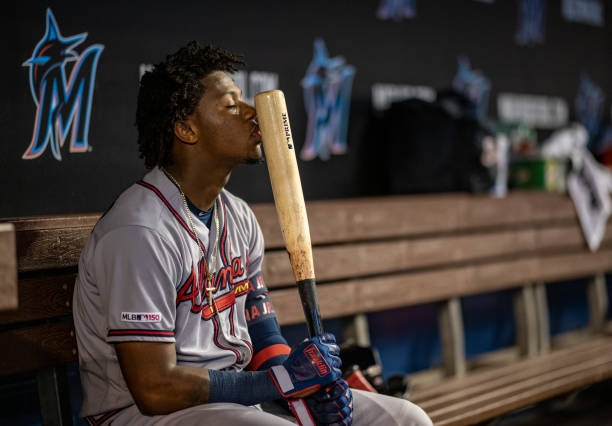bita: (252, 89, 333, 365)
